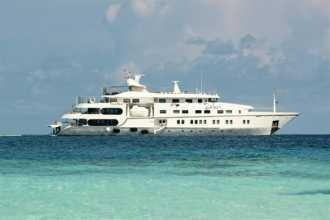yacht: (41, 77, 303, 137)
